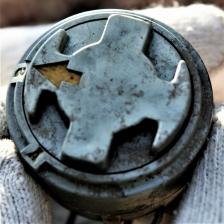M14: (11, 11, 215, 212)
